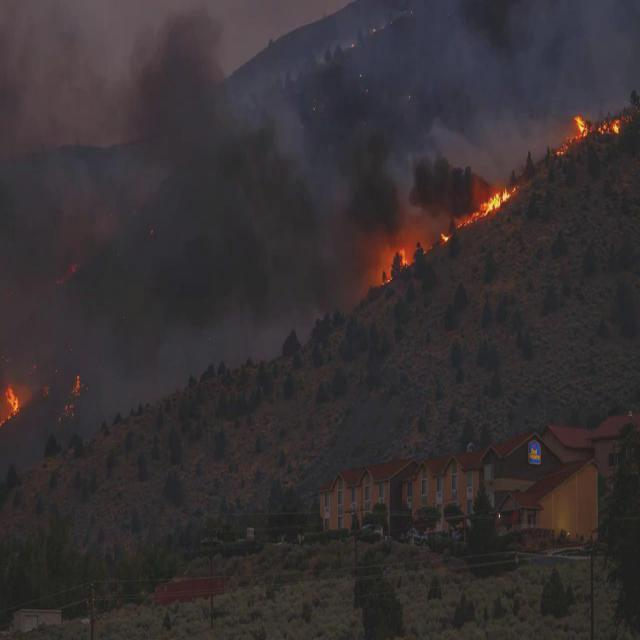Fire: (462, 184, 517, 225), (0, 386, 18, 424), (574, 118, 588, 139), (597, 121, 623, 132), (554, 140, 569, 158), (399, 248, 408, 268), (72, 375, 80, 397), (438, 234, 450, 242)
